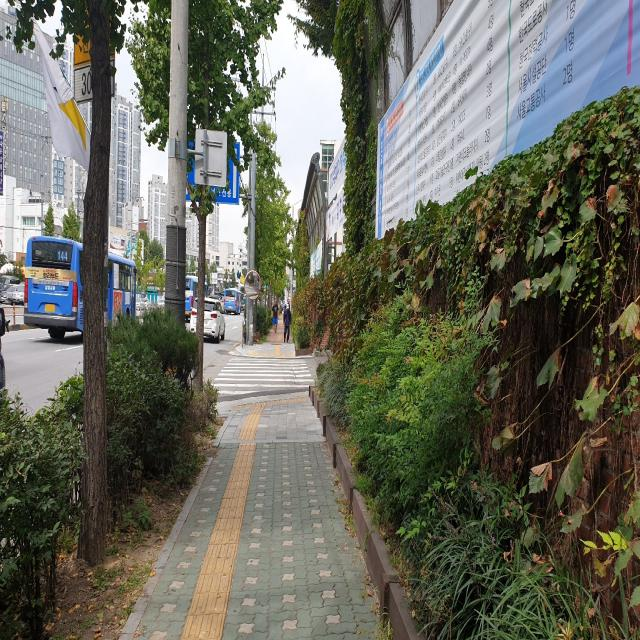횡단보도: (210, 357, 316, 396)
